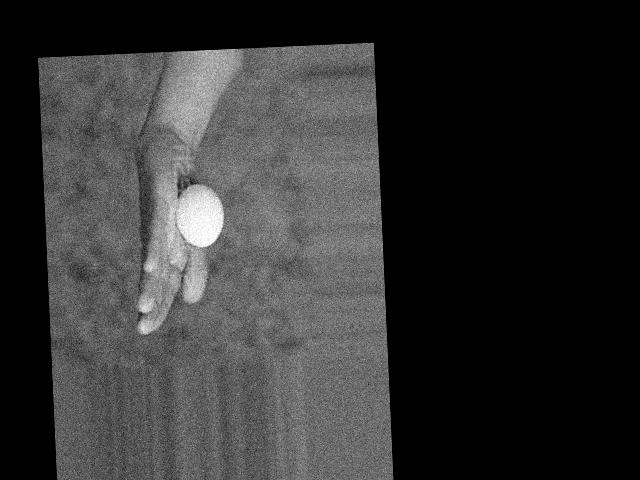egg: (174, 182, 226, 248)
